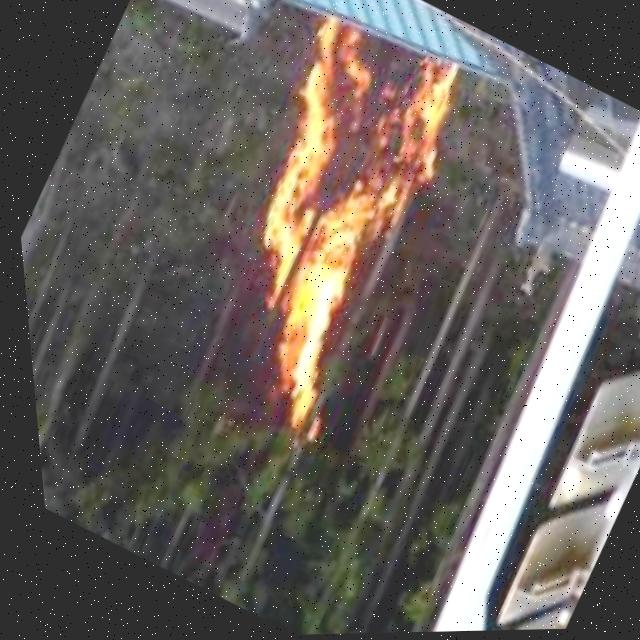Fire: (137, 6, 504, 448)
